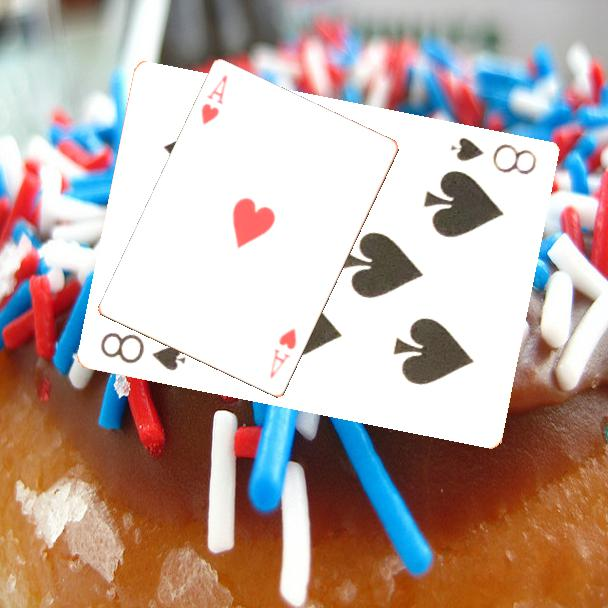h01: (266, 325, 300, 382), (198, 72, 230, 128)
s08: (97, 328, 189, 374), (447, 133, 541, 177)
